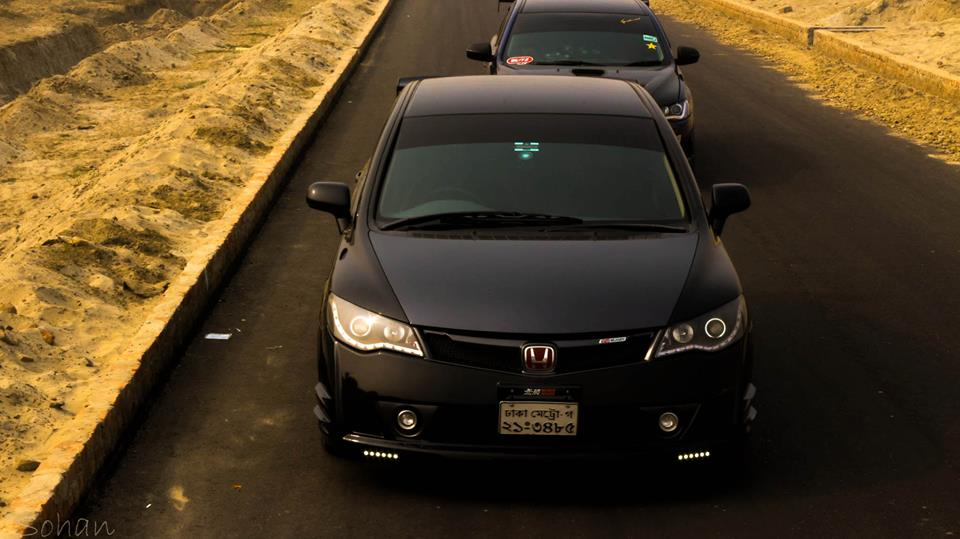registration_plate: (498, 399, 579, 436)
